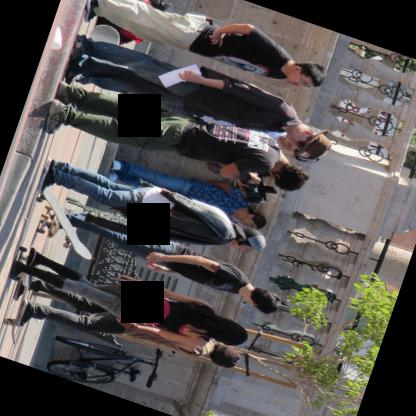backpack: (94, 0, 173, 45)
